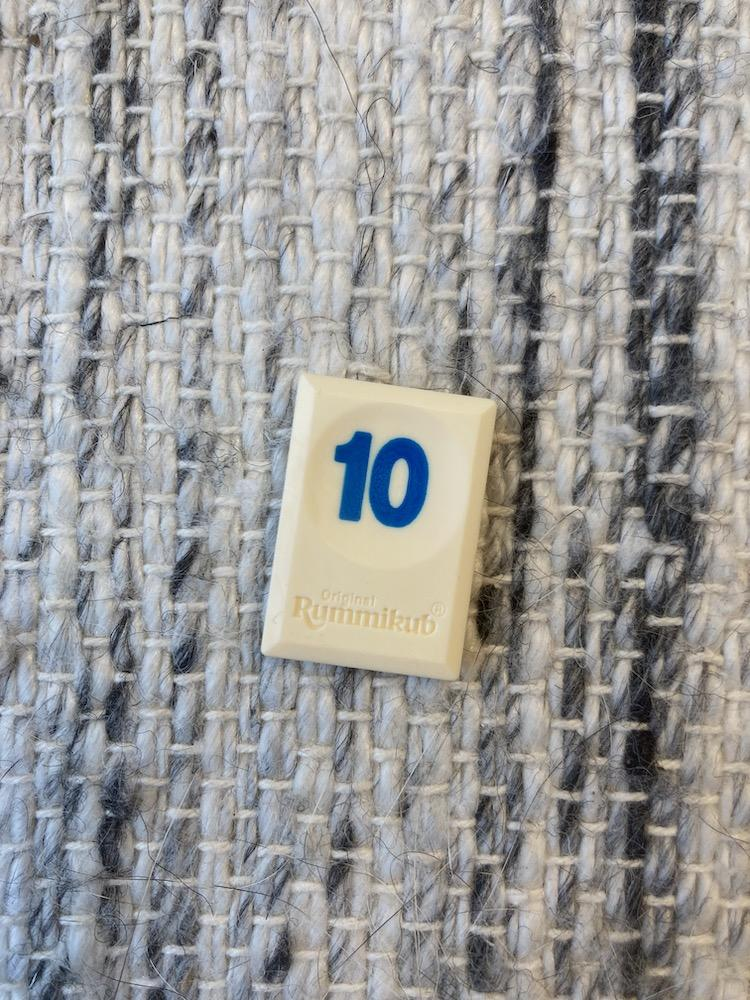blue_10: (262, 373, 496, 680)
